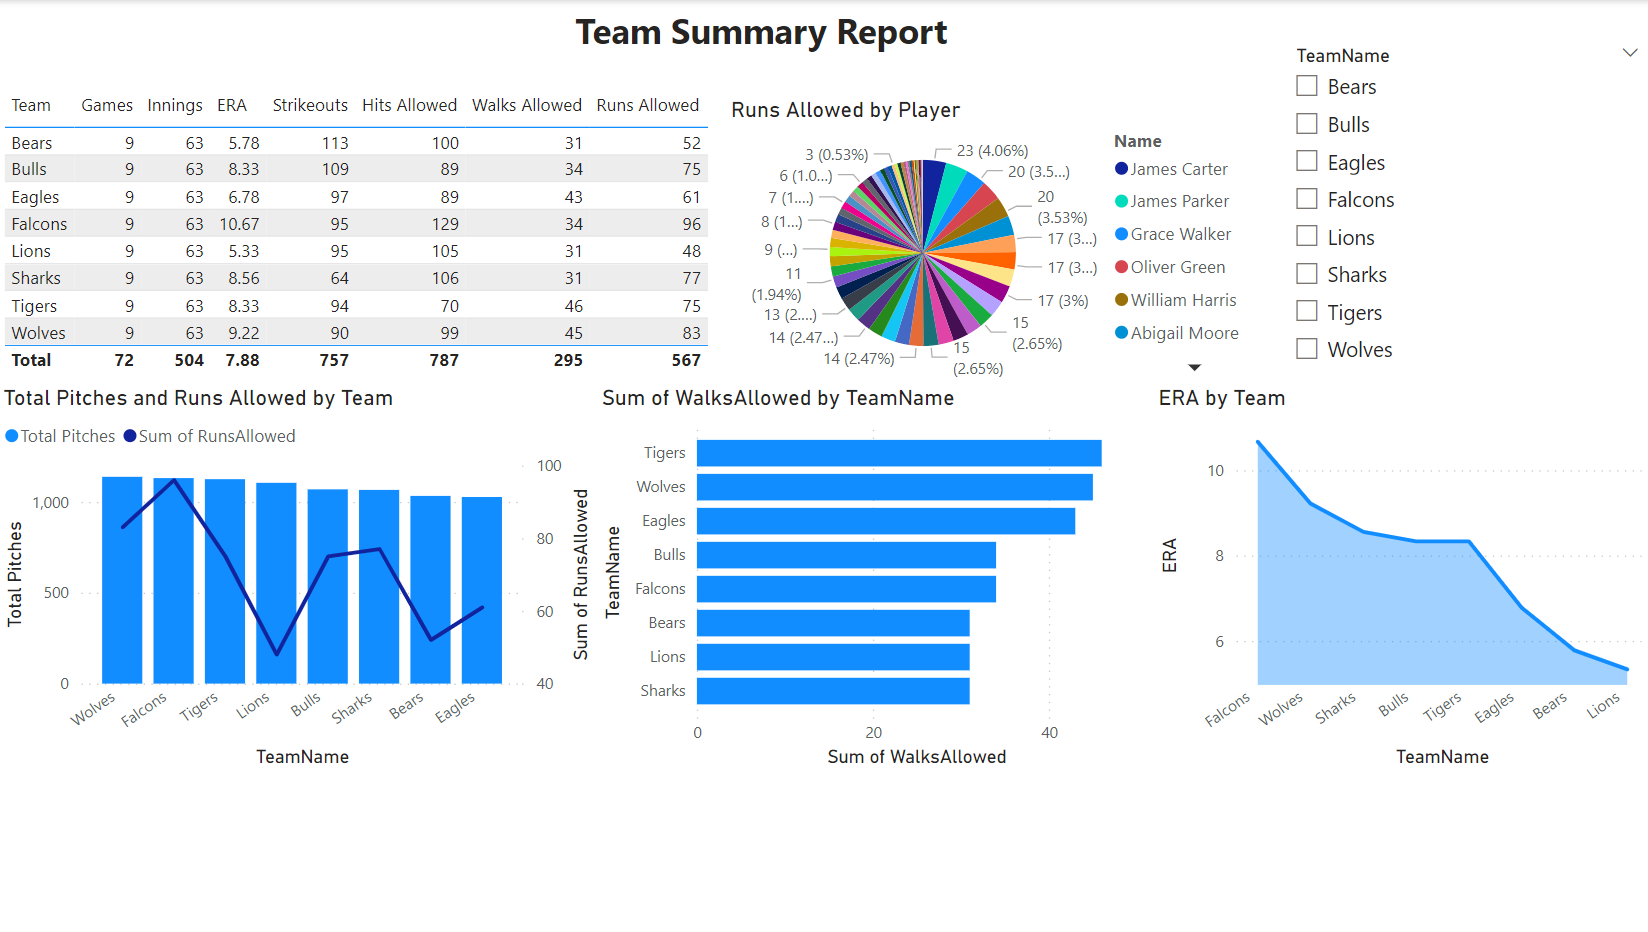

The page's visual inventory and layout, read from the dashboard file:
{"tool":"powerbi","page":{"name":"Team Summary Report","canvas":[1280,720],"ordinal":1},"visuals":[{"type":"textbox","box":[381.2,0,418.3,74.2],"z":0},{"type":"lineClusteredColumnComboChart","title":"Total Pitches and Runs Allowed by Team","fields":{"Category":["Teams.TeamName"],"Y":["Statistics.PitchCount"],"Y2":["Statistics.RunsAllowed"]},"box":[0,296.6,462.3,300.1],"z":1000},{"type":"tableEx","fields":{"Values":["Teams.TeamName","Statistics.GamesPlayed","Statistics.InningsPitched","Statistics.ERA","Statistics.Strikeouts","Statistics.HitsAllowed","Statistics.WalksAllowed","Statistics.RunsAllowed"]},"box":[0,64.9,562,231.7],"z":2000},{"type":"clusteredBarChart","fields":{"Category":["Teams.TeamName"],"Y":["Statistics.WalksAllowed"]},"box":[462.3,296.6,429.9,300.1],"z":3000},{"type":"areaChart","title":"ERA by Team","fields":{"Category":["Teams.TeamName"],"Y":["Statistics.ERA"]},"box":[892.2,296.6,388.2,300.1],"z":4000},{"type":"pieChart","title":"Runs Allowed by Player","fields":{"Category":["Players.Name"],"Y":["Statistics.RunsAllowed"]},"box":[562,74.2,428.7,222.5],"z":5000},{"type":"slicer","fields":{"Values":["Teams.TeamName"]},"box":[990.7,29,289.7,266.5],"z":6000}]}

Visuals, with their boxes in screenshot pixels (x1, y1, x2, y2), scaled from the page's 1280x720 canvas onto the 1648x932 screenshot:
textbox: [491, 0, 1029, 96]
"Total Pitches and Runs Allowed by Team" lineClusteredColumnComboChart: [0, 384, 595, 772]
tableEx - Teams.TeamName x Statistics.GamesPlayed: [0, 84, 724, 384]
clusteredBarChart - Teams.TeamName x Statistics.WalksAllowed: [595, 384, 1149, 772]
"ERA by Team" areaChart: [1149, 384, 1647, 772]
"Runs Allowed by Player" pieChart: [724, 96, 1276, 384]
slicer - Teams.TeamName: [1276, 38, 1647, 383]
